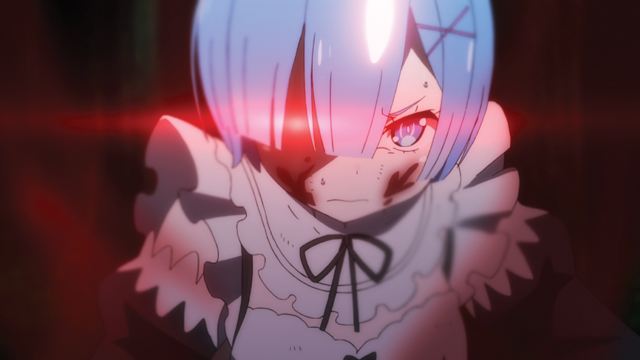rem: (127, 2, 540, 356)
